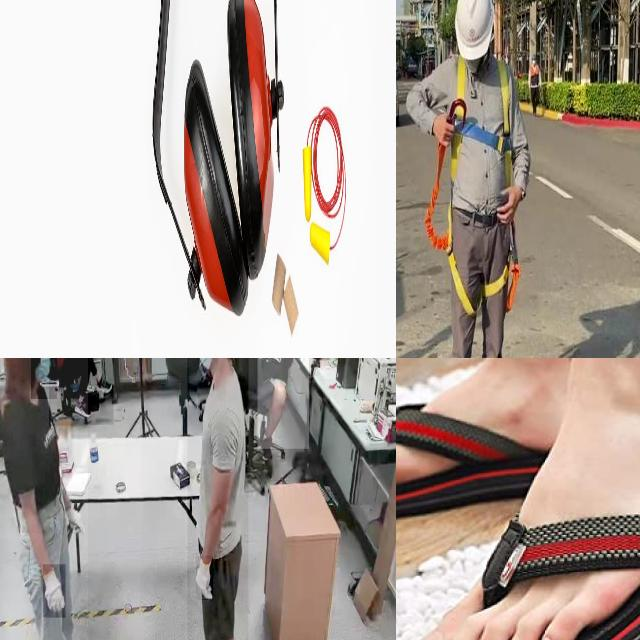Ear-protection: (182, 54, 248, 324), (223, 0, 274, 281)
Harness: (425, 145, 521, 336), (448, 56, 513, 186)
Sandals: (421, 358, 640, 640), (396, 407, 539, 527)
face_mask: (31, 358, 57, 399), (188, 358, 215, 380)
hand_glove: (43, 564, 66, 618), (196, 555, 214, 601)
person: (0, 358, 88, 640), (187, 358, 248, 640), (257, 358, 309, 449), (49, 358, 114, 426)
